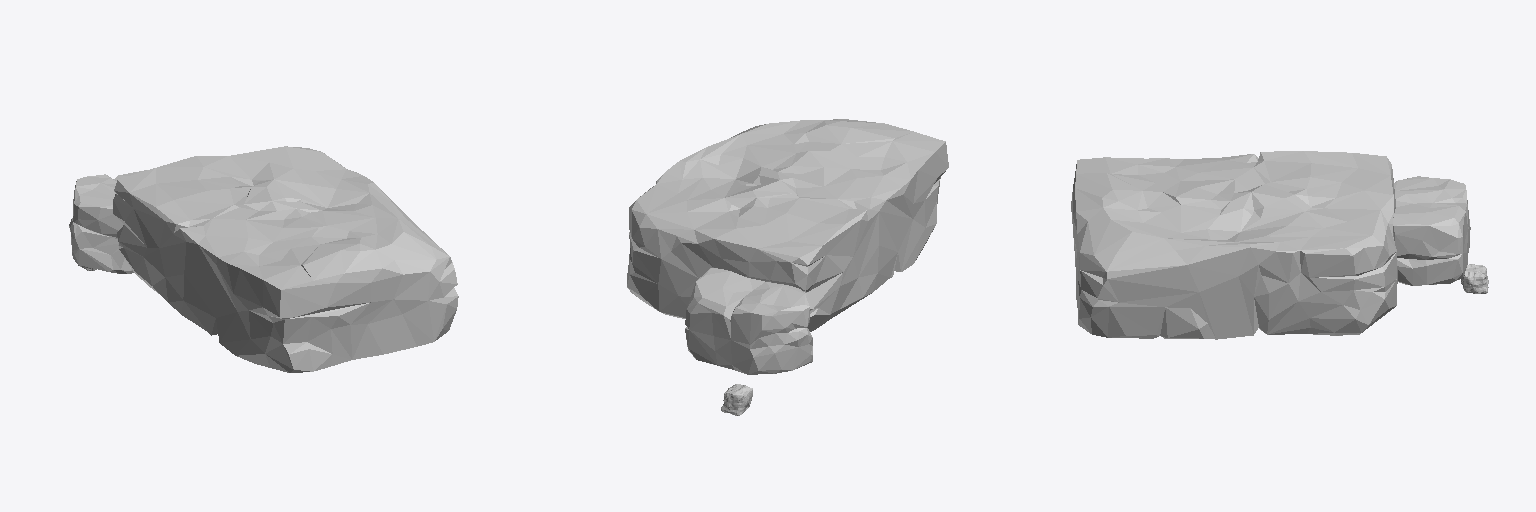
3 renders of one model, left to right at view 1: azimuth 30°, elevation 25°; view 2: azimuth 150°, elevation 25°; view 3: azimuth 270°, elevation 25°, orthographic.
Parts seen in each view (by area): view 1: rock4_002, rock6_004; view 2: rock4_002, rock6_004, Mesh2330; view 3: rock4_002, rock6_004, Mesh2330.
Part boxes in pixels (bbox=[...]): rock4_002: bbox=[113, 146, 458, 372]; rock6_004: bbox=[69, 170, 146, 273]; rock4_002: bbox=[627, 119, 948, 331]; rock6_004: bbox=[685, 268, 812, 374]; Mesh2330: bbox=[721, 384, 752, 415]; rock4_002: bbox=[1071, 151, 1397, 339]; rock6_004: bbox=[1393, 176, 1470, 285]; Mesh2330: bbox=[1461, 264, 1488, 293].
Bounding box in the file's own units: 8.72 × 4.9 × 13.92.